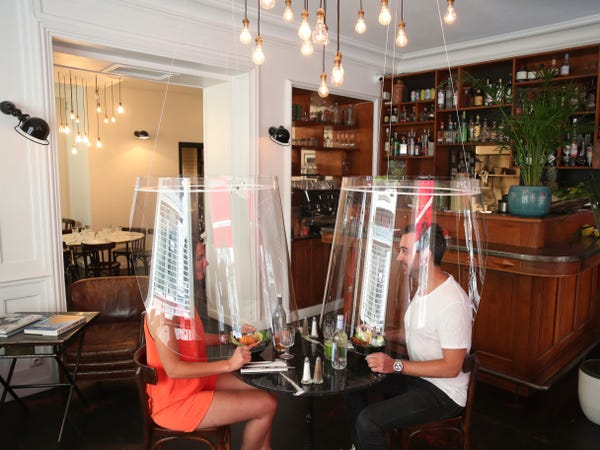Good: (141, 228, 468, 422)
